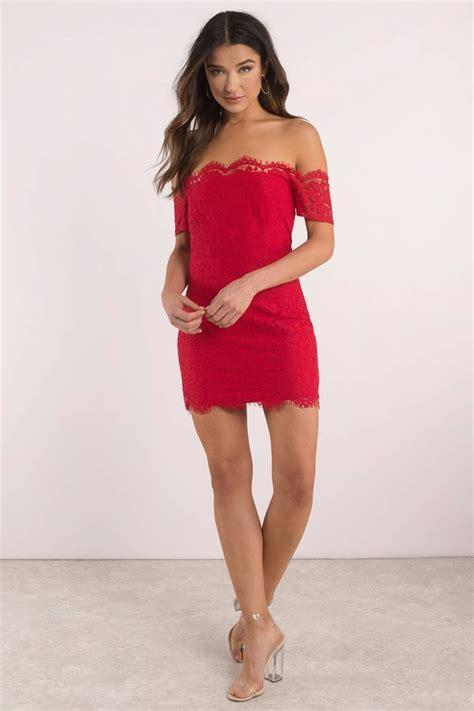dress: (173, 158, 336, 414)
